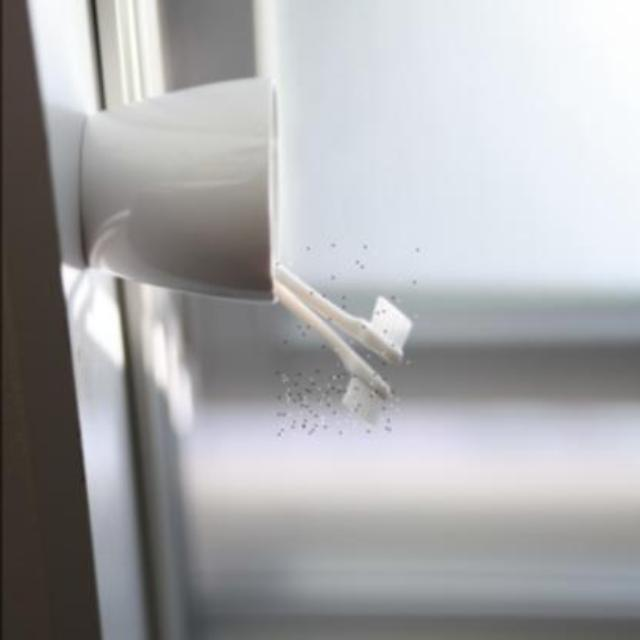toothbrush: (273, 244, 423, 370), (276, 292, 396, 436)
